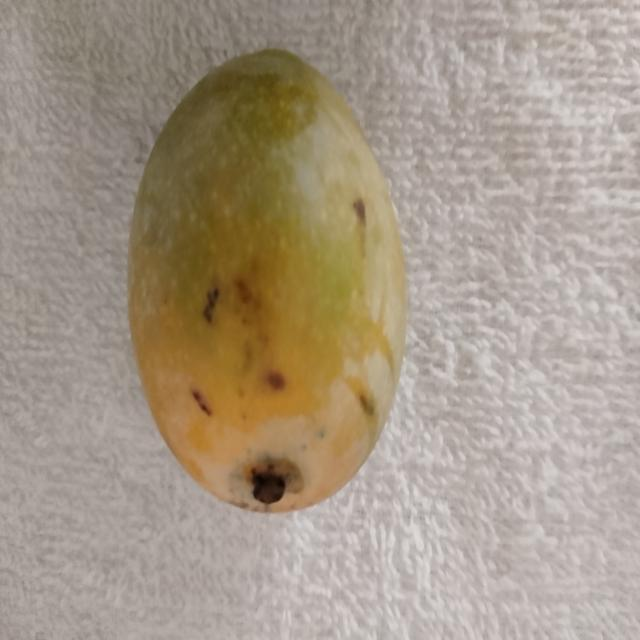mango: (128, 50, 406, 511)
